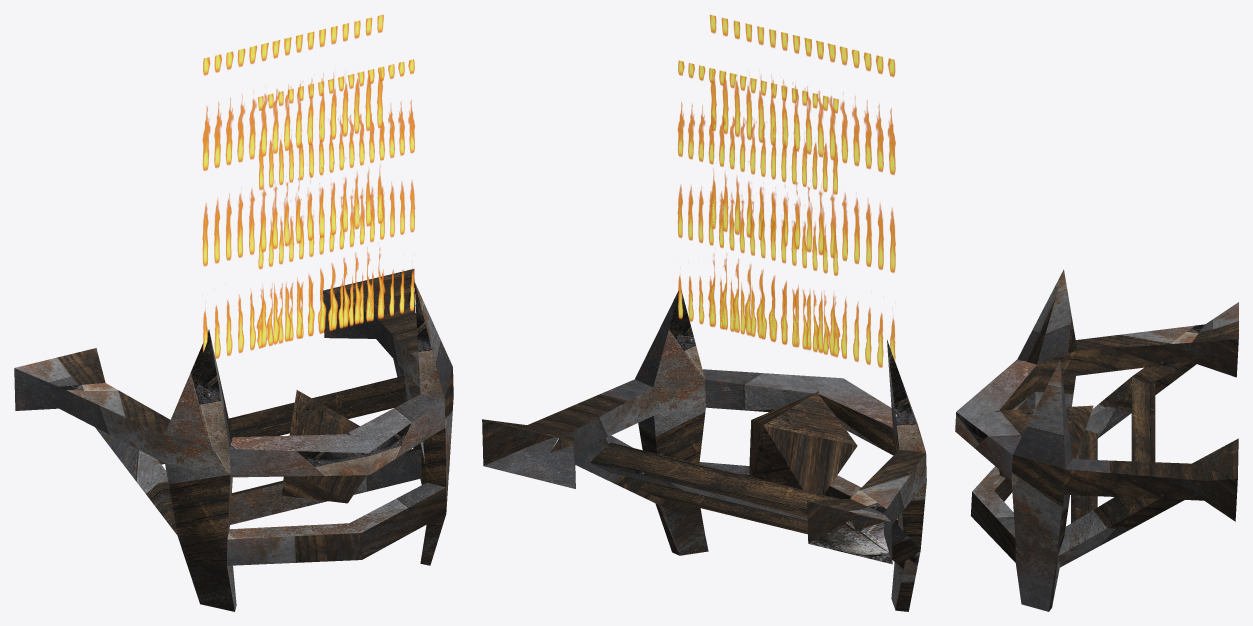
The model's file is mm9_deco_sconce1torch.glb.
3 views of the same model, side by side, from view 1: azimuth 30°, elevation 25°; view 2: azimuth 150°, elevation 25°; view 3: azimuth 270°, elevation 25° (orthographic). The views are drawn at different scales.
Visible parts, largest first — view 1: Sconce1torch; view 2: Sconce1torch; view 3: Sconce1torch.
Part boxes in pixels (box(x1,y1,x2,y2)): Sconce1torch: box(14, 14, 453, 611); Sconce1torch: box(482, 15, 926, 611); Sconce1torch: box(955, 269, 1238, 611).
Bounding box in the file's own units: 0.6436 × 0.8331 × 0.431.
Materials: 3 (3 with a texture image).
